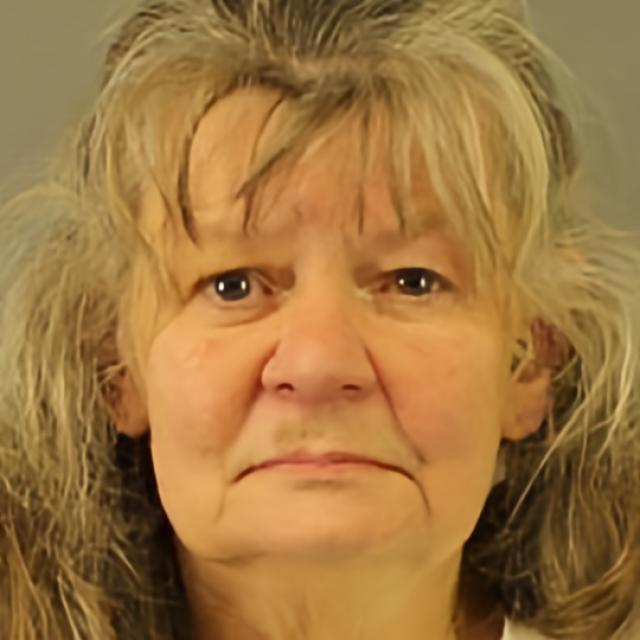sad: (141, 85, 512, 575)
